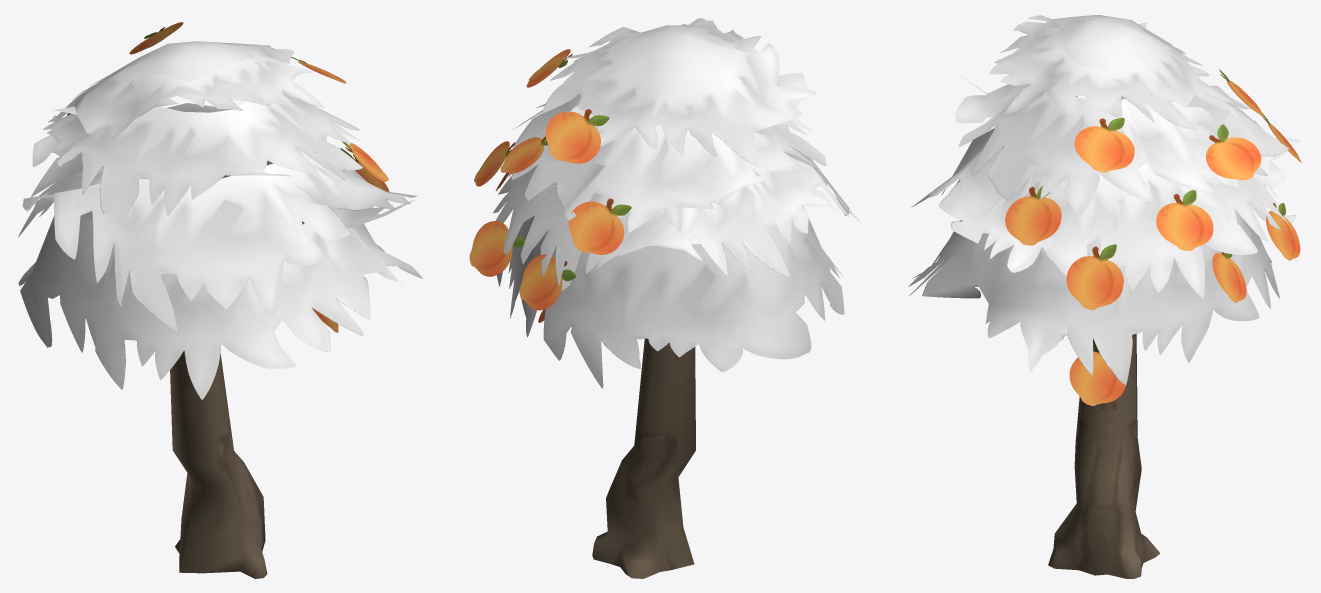
File: PeachTree.fbx
3 views of the same model, side by side, from view 1: azimuth 30°, elevation 25°; view 2: azimuth 150°, elevation 25°; view 3: azimuth 270°, elevation 25° (orthographic).
Visible parts, largest first — view 1: TreeFruitCrown2b, TreeFruitStumpSmallB, FruitApple2; view 2: TreeFruitCrown2b, TreeFruitStumpSmallB, FruitApple1 (10), FruitApple1 (6), FruitApple2 (9), FruitApple2 (1), FruitApple1 (5), FruitApple1 (8), FruitApple1 (3); view 3: TreeFruitCrown2b, TreeFruitStumpSmallB, FruitApple2 (2), FruitApple1 (8), FruitApple1 (3), FruitApple2, FruitApple1 (5), FruitApple2 (4), FruitApple2 (9), FruitApple2 (1).
Boxes of the visible parts, bbox=[...] form: TreeFruitCrown2b: bbox=[18, 41, 422, 399]; TreeFruitStumpSmallB: bbox=[170, 351, 267, 578]; FruitApple2: bbox=[342, 141, 388, 181]; TreeFruitCrown2b: bbox=[493, 18, 858, 388]; TreeFruitStumpSmallB: bbox=[592, 338, 695, 578]; FruitApple1 (10): bbox=[568, 198, 631, 254]; FruitApple1 (6): bbox=[545, 109, 609, 163]; FruitApple2 (9): bbox=[469, 221, 525, 276]; FruitApple2 (1): bbox=[519, 254, 575, 310]; FruitApple1 (5): bbox=[500, 136, 548, 173]; FruitApple1 (8): bbox=[474, 141, 515, 186]; FruitApple1 (3): bbox=[526, 49, 572, 87]; TreeFruitCrown2b: bbox=[908, 15, 1300, 385]; TreeFruitStumpSmallB: bbox=[1048, 334, 1160, 578]; FruitApple2 (2): bbox=[1066, 244, 1123, 310]; FruitApple1 (8): bbox=[1156, 190, 1213, 250]; FruitApple1 (3): bbox=[1074, 117, 1134, 172]; FruitApple2: bbox=[1005, 186, 1061, 245]; FruitApple1 (5): bbox=[1206, 124, 1261, 180]; FruitApple2 (4): bbox=[1069, 351, 1126, 405]; FruitApple2 (9): bbox=[1212, 252, 1246, 302]; FruitApple2 (1): bbox=[1266, 203, 1300, 260].
Size of what is drawn, in the model's own units: 4.28 by 5.92 by 4.31.
Materials: 1 (1 with a texture image).
